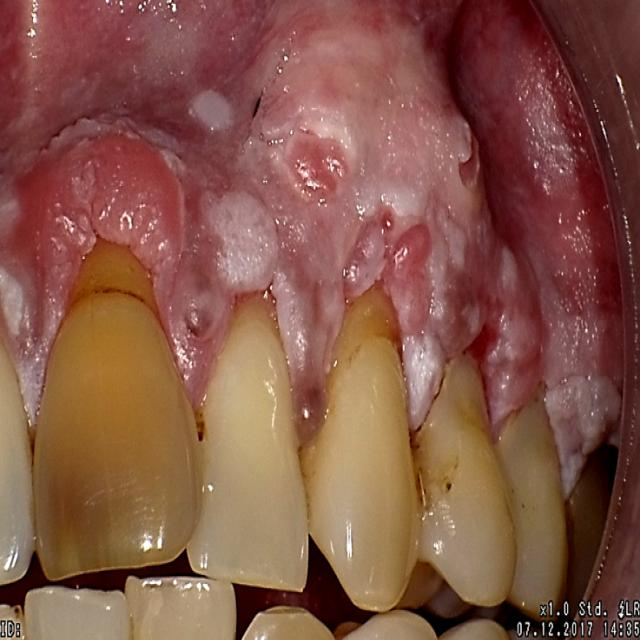cancer-detection: (1, 0, 624, 504)
processing_area: (1, 1, 624, 507)
